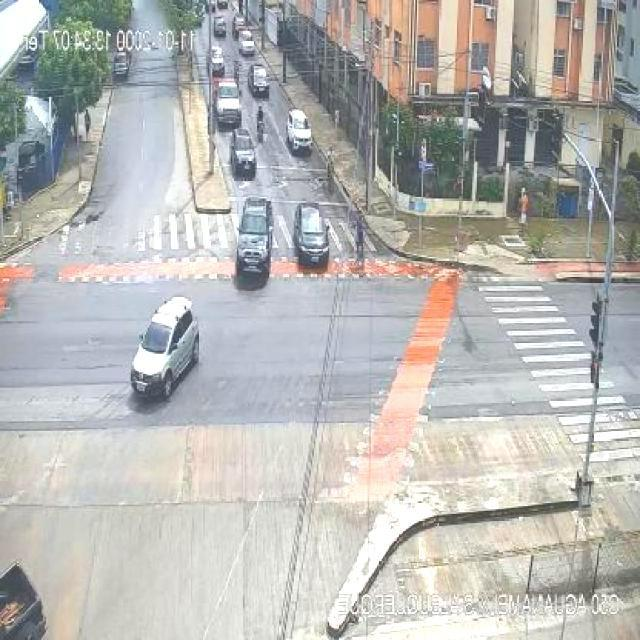Car: (128, 298, 198, 404), (231, 196, 274, 281), (293, 203, 331, 265), (230, 128, 258, 176), (286, 109, 314, 151), (246, 63, 271, 97), (206, 46, 224, 76), (238, 29, 255, 54), (233, 14, 248, 37), (213, 16, 226, 39)
Cycle: (255, 105, 269, 144)
Truck: (212, 74, 242, 127)
